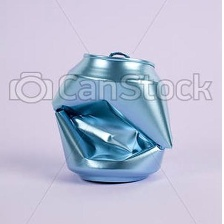can: (52, 50, 173, 187)
